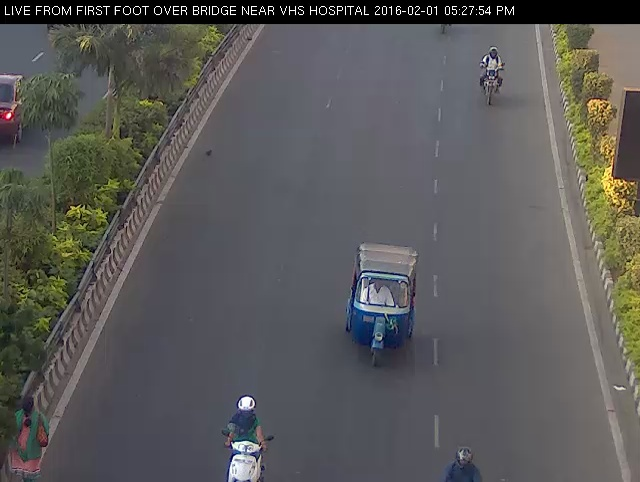Car: (339, 233, 425, 372)
Person: (217, 391, 277, 480), (6, 384, 56, 481), (474, 31, 510, 115), (438, 431, 494, 481)
